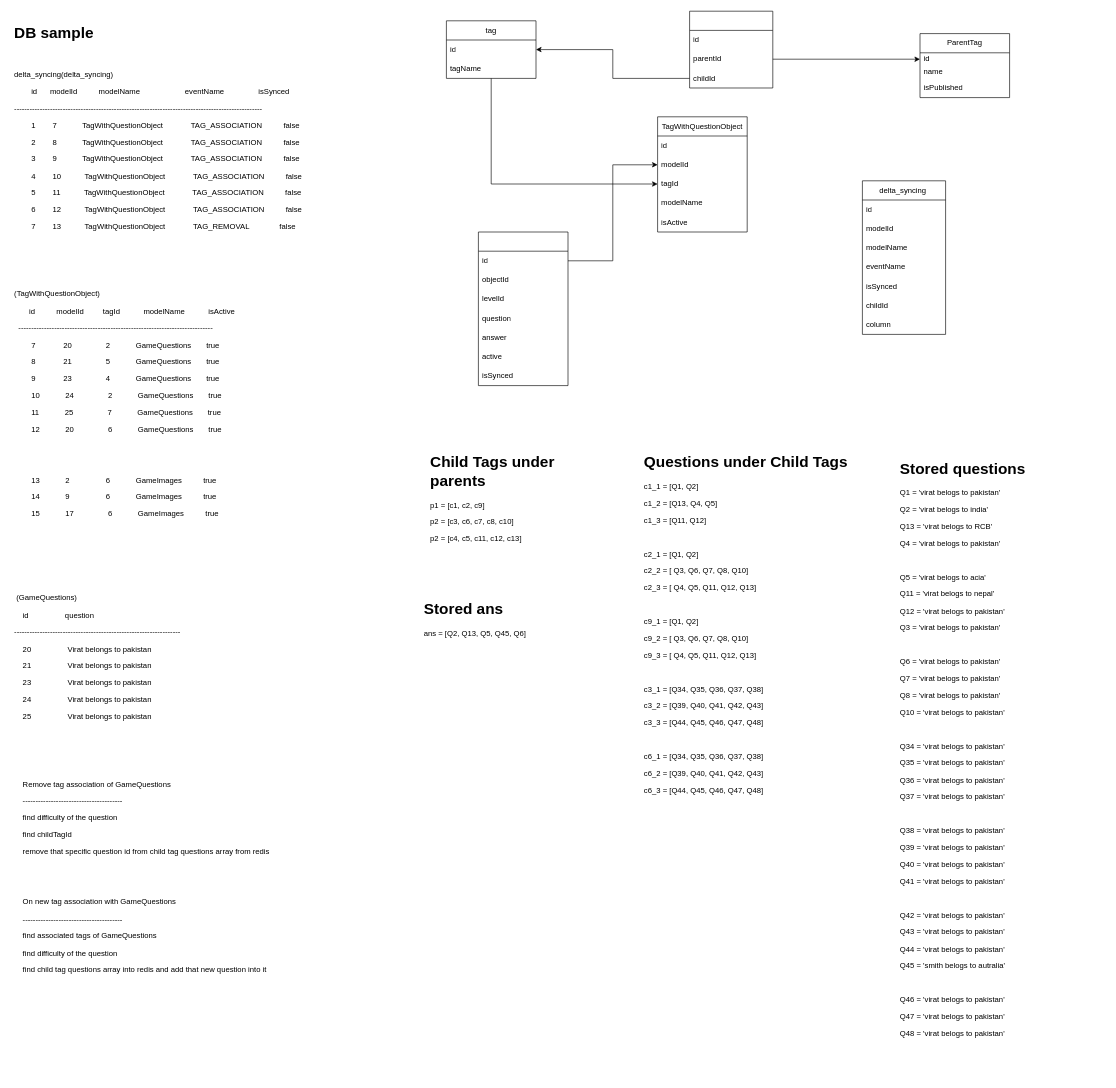
The diagram is 1116 pixels wide and 1088 high, and some of its shapes have lost their labels. The shapes that lost their labels are listed below. From the top down, each one's box as (x1, y1, x2, y2) in pixels, then its label:
(689, 11, 773, 88): TagParentChildRelation
(478, 231, 568, 386): GameQuestions
